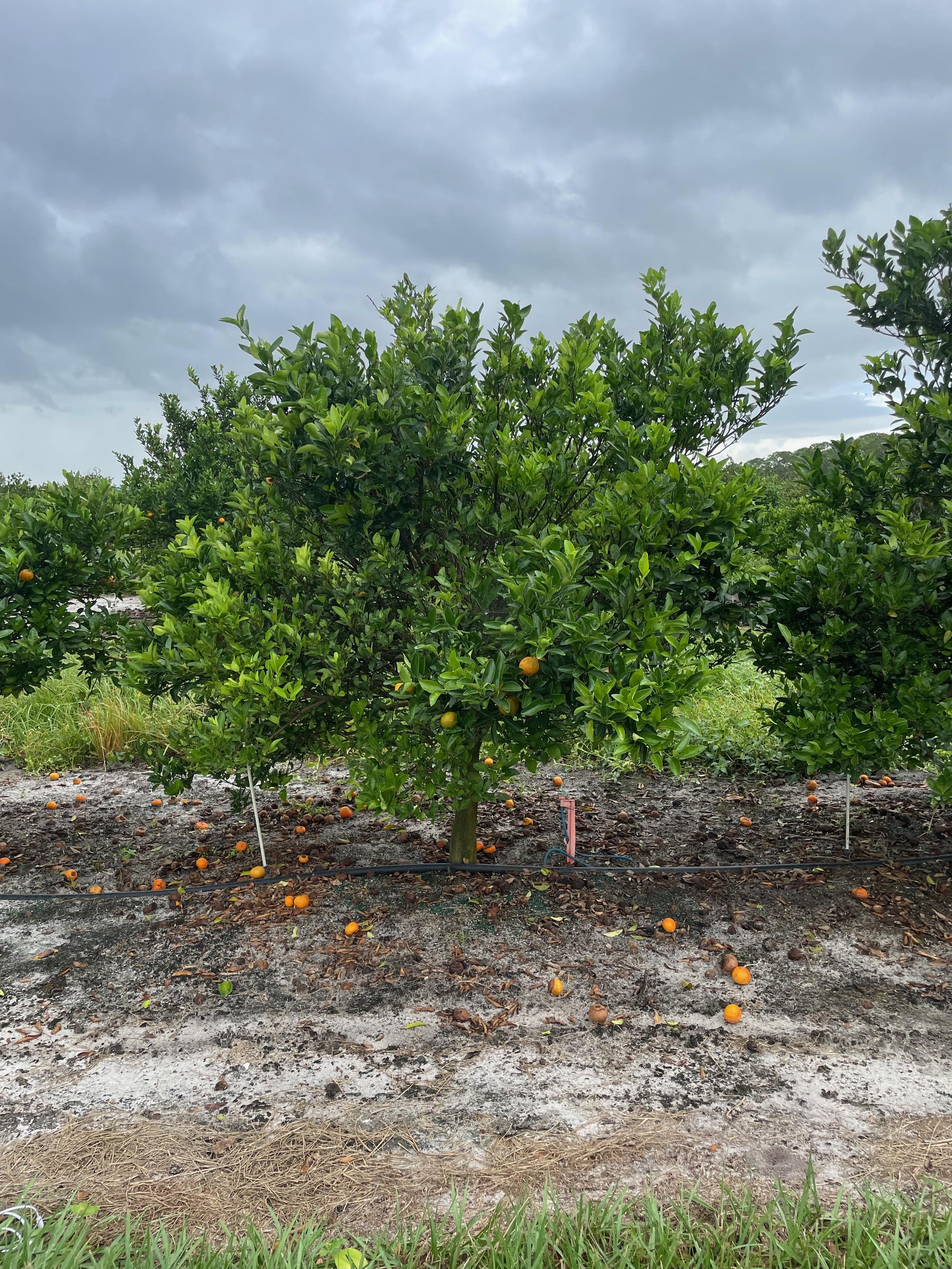fruit_on_ground: (496, 691, 522, 718), (516, 653, 543, 678), (393, 678, 416, 700), (438, 710, 460, 731), (17, 566, 36, 584), (265, 475, 275, 486), (218, 516, 226, 524)
fruit_on_tree: (587, 1002, 610, 1024), (731, 965, 753, 987), (546, 975, 567, 998), (722, 1002, 743, 1025), (659, 914, 679, 934), (721, 953, 740, 973), (850, 885, 870, 902), (343, 919, 361, 936), (293, 892, 311, 909), (249, 863, 266, 879), (151, 876, 167, 891), (282, 893, 297, 908), (63, 867, 79, 881), (738, 813, 753, 827), (804, 778, 819, 792), (805, 792, 820, 806), (339, 805, 353, 820), (234, 839, 249, 853), (193, 819, 210, 831), (520, 816, 534, 829), (344, 788, 358, 801), (473, 838, 486, 852), (195, 856, 209, 869), (195, 843, 210, 855), (435, 837, 448, 850), (551, 774, 564, 787), (483, 841, 497, 853), (133, 825, 146, 837), (298, 852, 311, 864), (503, 796, 516, 808), (482, 756, 495, 768), (616, 810, 630, 821), (88, 884, 103, 894), (294, 824, 307, 835), (150, 796, 163, 807), (45, 799, 58, 810), (0, 854, 11, 866), (312, 813, 325, 823), (323, 813, 335, 823), (858, 773, 870, 783), (49, 771, 61, 781), (74, 792, 86, 802), (880, 775, 892, 784), (72, 776, 82, 786), (876, 778, 887, 786)
